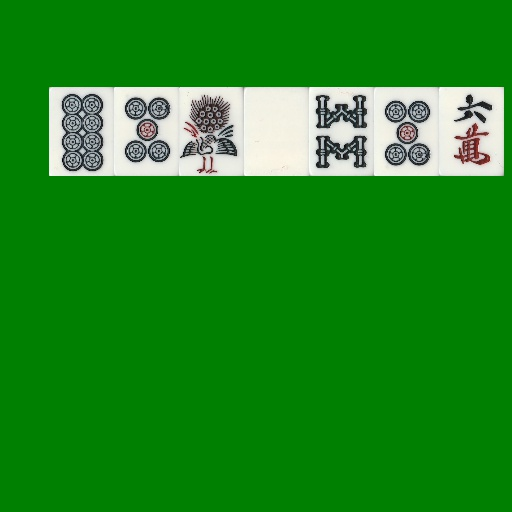1s: (179, 87, 244, 176)
5p: (114, 87, 179, 176), (374, 87, 439, 176)
6m: (439, 87, 504, 176)
8p: (49, 87, 114, 176)
8s: (309, 87, 374, 176)
white: (244, 87, 309, 176)
